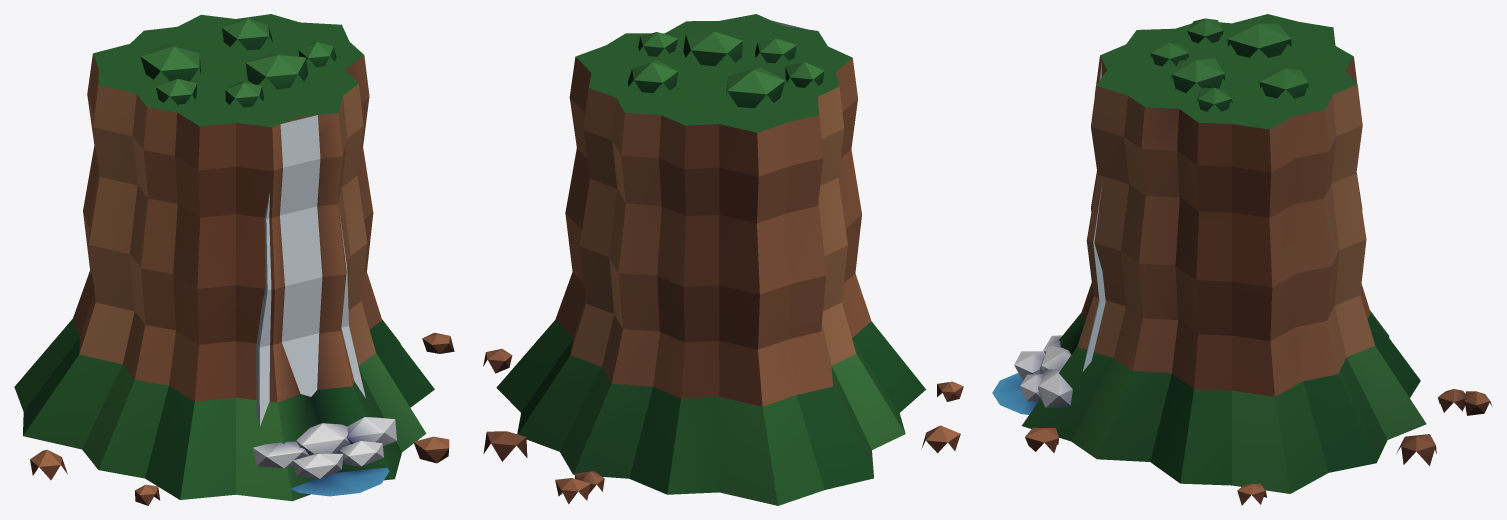
The model's file is angel_falls_tepui.glb.
The picture shows the model from 3 angles, left to right: view 1: azimuth 30°, elevation 25°; view 2: azimuth 150°, elevation 25°; view 3: azimuth 270°, elevation 25°; orthographic projection. The views are drawn at different scales.
Visible parts, largest first — view 1: tepuy, falls, mist; view 2: tepuy; view 3: tepuy, mist, falls.
Part boxes in pixels (bbox=[...]): tepuy: bbox=[14, 14, 454, 505]; falls: bbox=[256, 115, 389, 496]; mist: bbox=[253, 417, 396, 478]; tepuy: bbox=[483, 14, 963, 505]; tepuy: bbox=[1022, 14, 1492, 505]; mist: bbox=[1014, 335, 1072, 407]; falls: bbox=[992, 61, 1105, 414].
Bounding box in the file's own units: 55.76 × 43.97 × 56.06.
